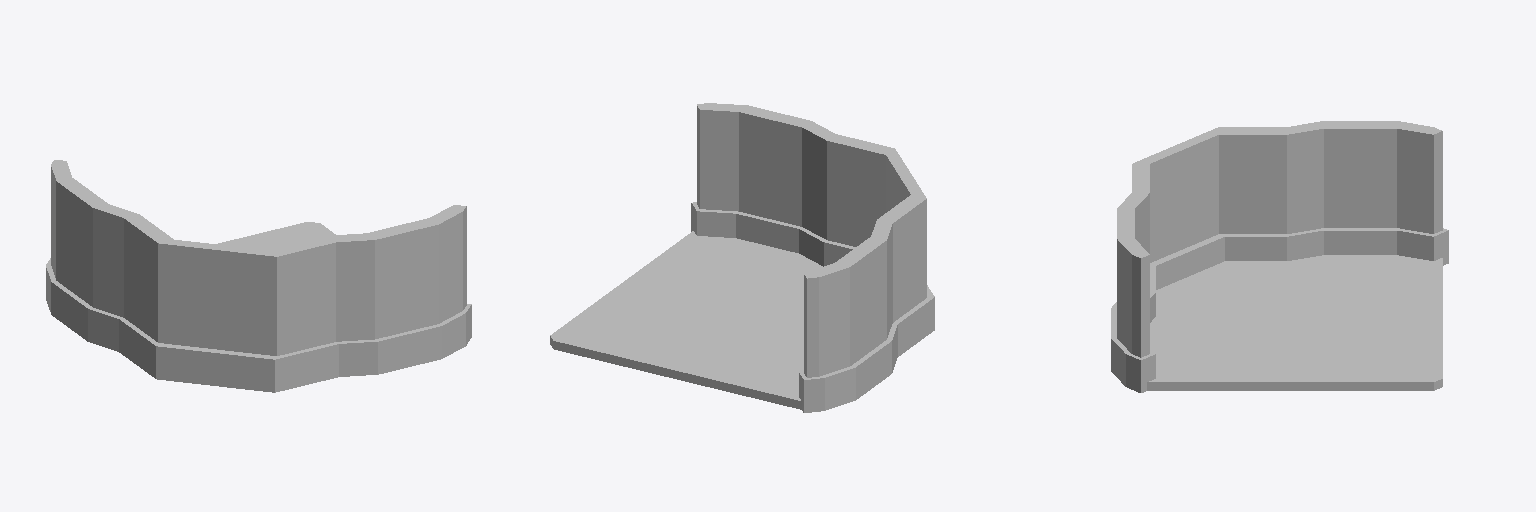
Rendered from corner_06.obj.
The picture shows the model from 3 angles: view 1: azimuth 30°, elevation 25°; view 2: azimuth 150°, elevation 25°; view 3: azimuth 270°, elevation 25°; orthographic projection.
Parts seen in each view (by area): view 1: corner_02_20, wall_03_21, wall_03_22, floor_square_18; view 2: wall_03_21, wall_03_22, corner_02_20, floor_square_18, floor_squareGallery%_19, floor_squareGallery%_17, floor_corner_15; view 3: wall_03_22, corner_02_20, floor_square_18, floor_squareGallery%_17, floor_squareGallery%_19, floor_corner_15, wall_03_21.
Part boxes in pixels (x1,y1,x2,y2): corner_02_20: (119, 213, 339, 392); wall_03_21: (324, 205, 471, 376); wall_03_22: (46, 160, 139, 351); floor_square_18: (218, 222, 335, 249); wall_03_21: (691, 103, 835, 266); wall_03_22: (799, 220, 897, 412); corner_02_20: (821, 134, 934, 356); floor_square_18: (550, 281, 762, 379); floor_squareGallery%_19: (624, 231, 820, 309); floor_squareGallery%_17: (677, 312, 803, 409); floor_corner_15: (751, 264, 822, 328); wall_03_22: (1281, 121, 1448, 265); corner_02_20: (1132, 127, 1294, 291); floor_square_18: (1278, 316, 1442, 390); floor_squareGallery%_17: (1278, 255, 1442, 320); floor_squareGallery%_19: (1147, 321, 1295, 390); floor_corner_15: (1152, 260, 1295, 320); wall_03_21: (1111, 193, 1155, 392).
Bounding box in the file's own units: 2.31 × 1 × 2.31.